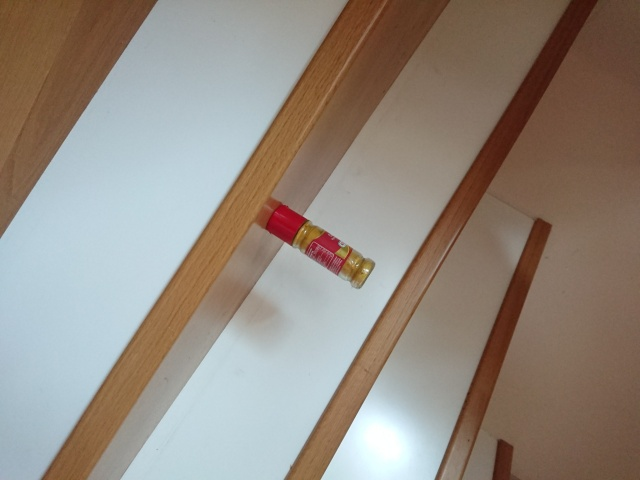Kotanyi Curry Spices Mix 70g: (264, 202, 377, 291)
